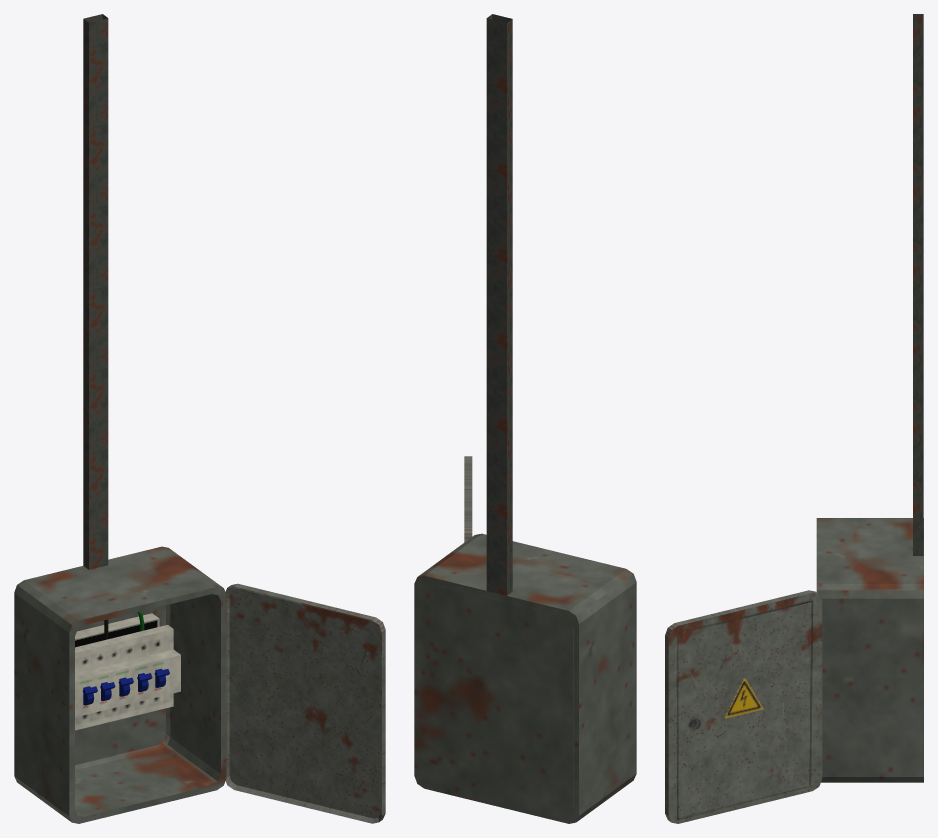
Rendered from PSX_FuseBox.obj.
The picture shows the model from 3 angles, left to right: view 1: azimuth 30°, elevation 25°; view 2: azimuth 150°, elevation 25°; view 3: azimuth 270°, elevation 25°; orthographic projection. The views are drawn at different scales.
Visible parts, largest first — view 1: Caja_Metal_Cuerpo, Puerta_Abierta, Tubo_Entrada, Panel_Breakers_646016, Panel_Breakers_b20304; view 2: Caja_Metal_Cuerpo, Tubo_Entrada, Puerta_Abierta; view 3: Puerta_Abierta, Caja_Metal_Cuerpo, Tubo_Entrada.
Boxes of the visible parts, box(x1,y1,x2,y2) form: Caja_Metal_Cuerpo: box(14, 546, 226, 823); Puerta_Abierta: box(225, 583, 385, 823); Tubo_Entrada: box(83, 14, 108, 569); Panel_Breakers_646016: box(75, 613, 180, 730); Panel_Breakers_b20304: box(75, 618, 159, 647); Caja_Metal_Cuerpo: box(414, 533, 636, 823); Tubo_Entrada: box(486, 14, 512, 595); Puerta_Abierta: box(464, 456, 472, 542); Puerta_Abierta: box(665, 590, 822, 823); Caja_Metal_Cuerpo: box(816, 518, 923, 782); Tubo_Entrada: box(913, 14, 923, 555).
Size of the model in its own units: 2.48 by 7.38 by 2.37.
Materials: 12 (4 with a texture image).
